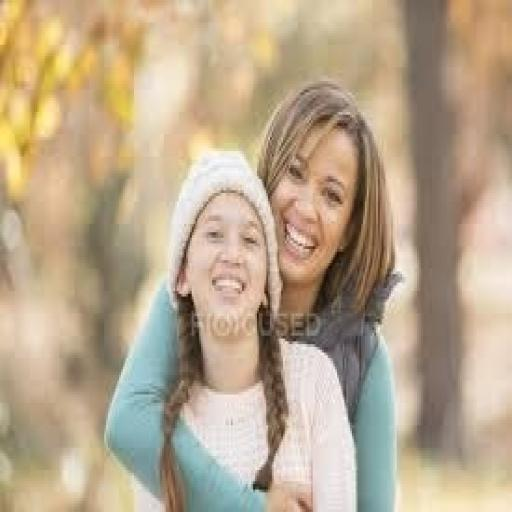hugging: (102, 148, 360, 509)
